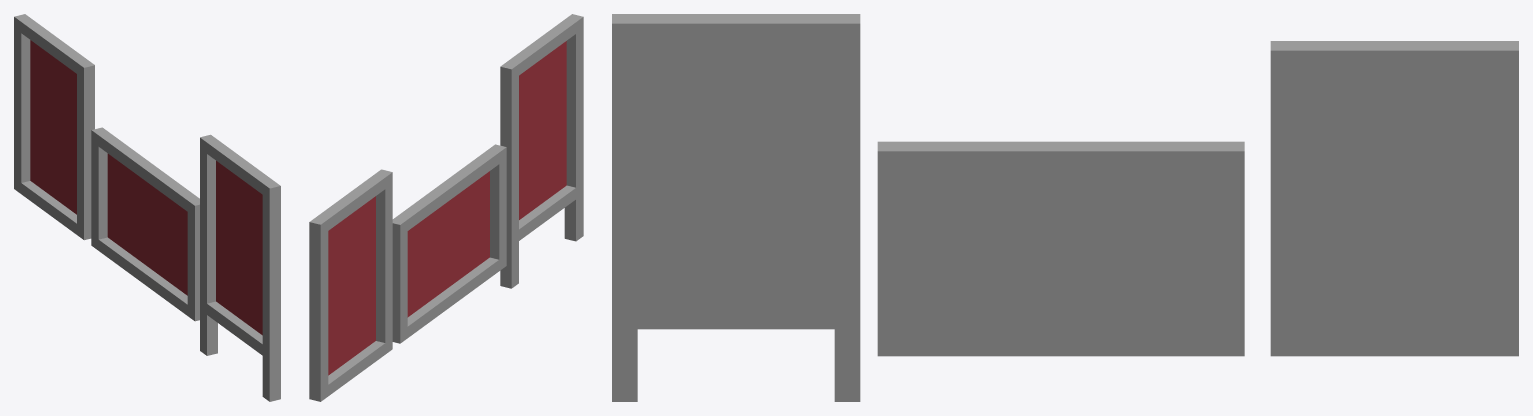
File: Frames.fbx
3 renders of one model, left to right at view 1: azimuth 30°, elevation 25°; view 2: azimuth 150°, elevation 25°; view 3: azimuth 270°, elevation 25°, orthographic. The views are drawn at different scales.
Parts seen in each view (by area): view 1: pCube3, pCube1, pCube2; view 2: pCube3, pCube1, pCube2; view 3: pCube3, pCube2, pCube1.
Part boxes in pixels (x1,y1,x2,y2): pCube3: (200,134,280,401); pCube1: (14,14,94,240); pCube2: (91,127,199,321); pCube3: (500,14,583,288); pCube1: (309,169,392,401); pCube2: (392,144,506,343); pCube3: (612,14,860,401); pCube2: (877,141,1244,356); pCube1: (1270,41,1518,356).
Size of the model in its own units: 3.34 by 61.73 by 134.
